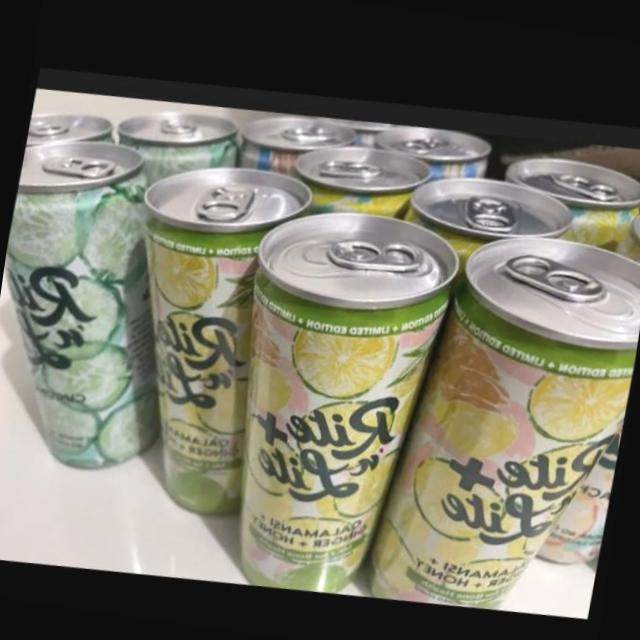nhom: (372, 234, 640, 609), (240, 207, 461, 590), (145, 161, 314, 512), (6, 132, 160, 463), (406, 175, 580, 270), (405, 175, 578, 269), (505, 156, 640, 251), (291, 141, 433, 214), (120, 105, 242, 178), (243, 112, 358, 169), (375, 122, 492, 176), (27, 104, 116, 139)
